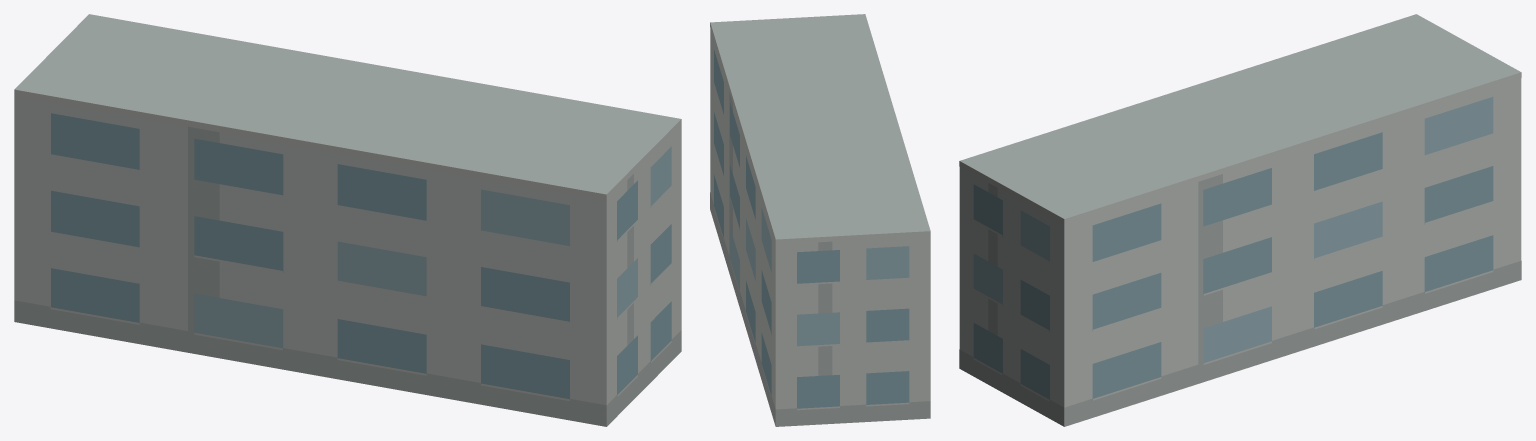
The model's file is residential-448f2cef-8c8b-4ec9-81a4-134860586c0d.glb.
The picture shows the model from 3 angles, left to right: view 1: azimuth 30°, elevation 25°; view 2: azimuth 150°, elevation 25°; view 3: azimuth 270°, elevation 25°; orthographic projection. The views are drawn at different scales.
Visible parts, largest first — view 1: residential-448f2cef-8c8b-4ec9-81a4-134860586c0d.tmp; view 2: residential-448f2cef-8c8b-4ec9-81a4-134860586c0d.tmp; view 3: residential-448f2cef-8c8b-4ec9-81a4-134860586c0d.tmp.
Part boxes in pixels (x1,y1,x2,y2): residential-448f2cef-8c8b-4ec9-81a4-134860586c0d.tmp: [14, 14, 681, 426]; residential-448f2cef-8c8b-4ec9-81a4-134860586c0d.tmp: [710, 14, 930, 426]; residential-448f2cef-8c8b-4ec9-81a4-134860586c0d.tmp: [959, 14, 1521, 426].
Size of the model in its own units: 18.86 by 8.9 by 21.83.
